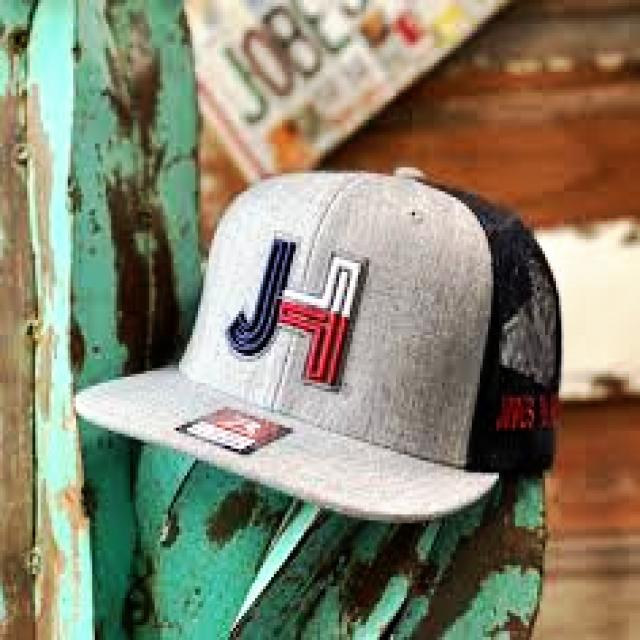TOPI: (65, 158, 561, 518)
